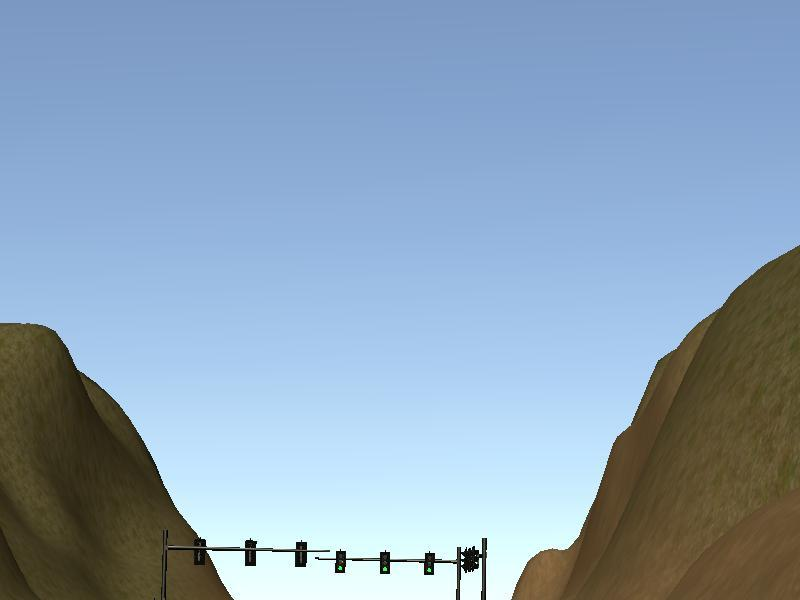Green: (334, 549, 346, 573), (379, 550, 390, 575), (424, 550, 434, 576)
